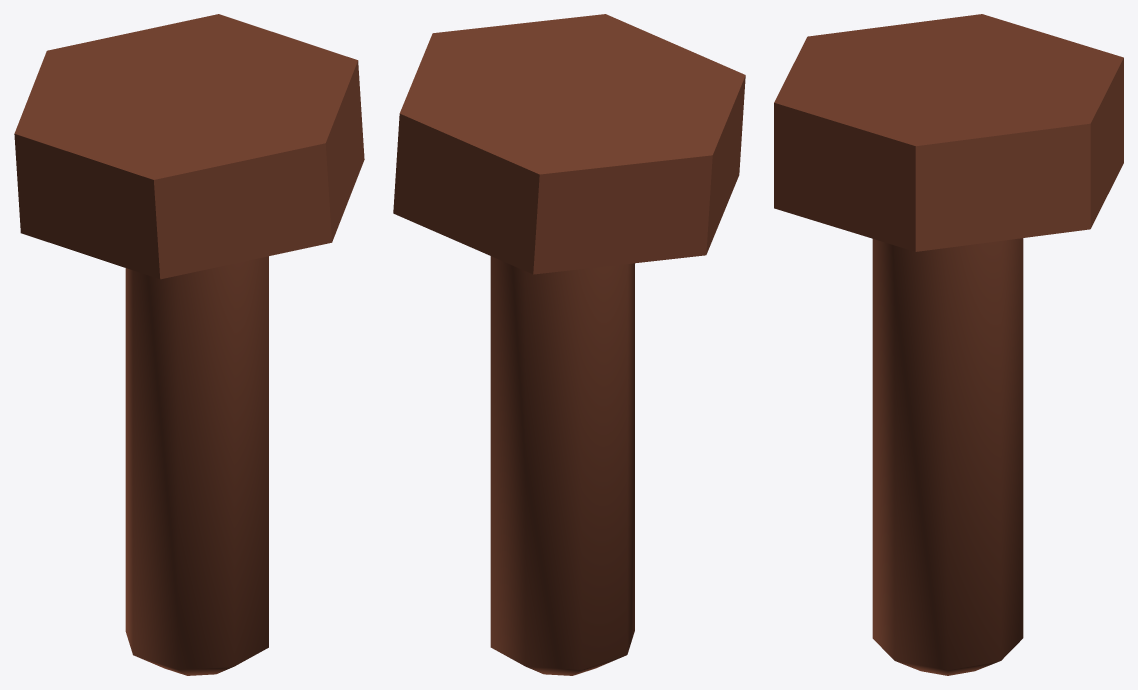
Rendered from parafuso_001.fbx.
3 views of the same model, side by side, from view 1: azimuth 30°, elevation 25°; view 2: azimuth 150°, elevation 25°; view 3: azimuth 270°, elevation 25° (orthographic).
Visible parts, largest first — view 1: parafuso_001; view 2: parafuso_001; view 3: parafuso_001.
Part boxes in pixels (x1=…): parafuso_001: x1=14, y1=14, x2=364, y2=675; parafuso_001: x1=393, y1=14, x2=745, y2=675; parafuso_001: x1=774, y1=14, x2=1123, y2=675.
Size of the model in its own units: 62.01 by 108 by 58.28.
